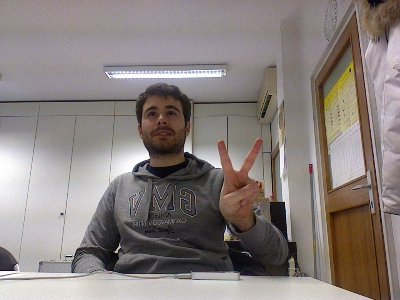剪刀: (215, 137, 262, 225)
